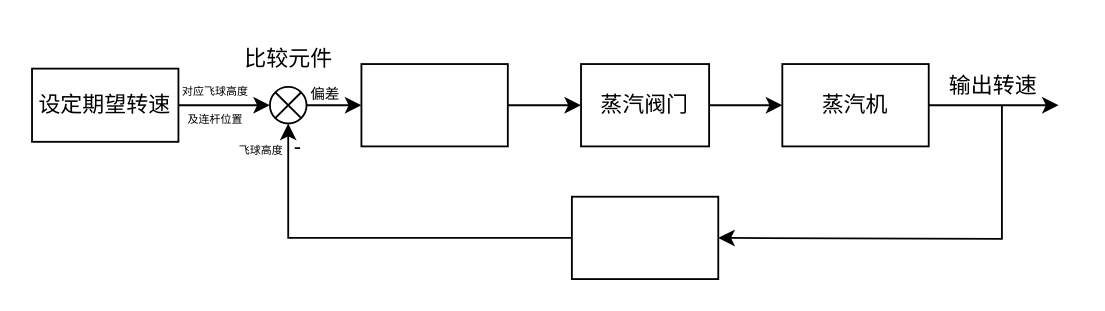
Image size: 1105x311. Some labels were removed from this diagram. The shapes that lost their labels are listed below. From the top down, each one's box as (x1, y1, x2, y2) in pixels, then its label:
(360, 62, 508, 146): 连杆机构
(570, 195, 718, 279): 飞球调速器
